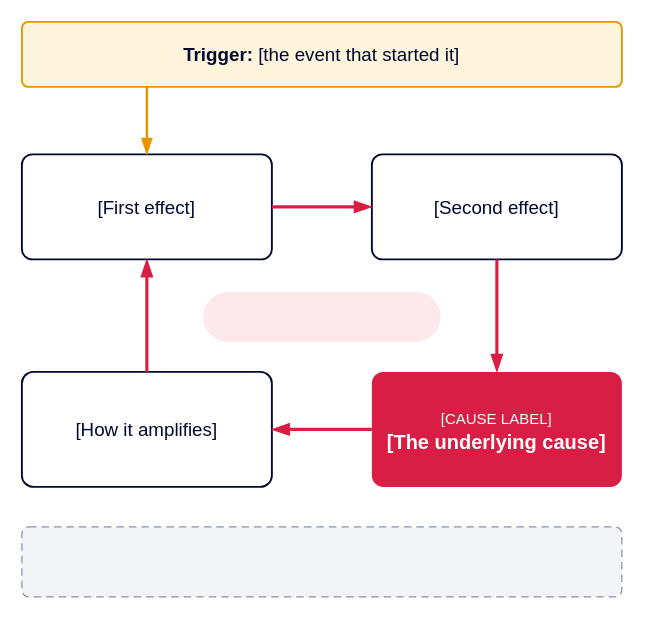
Some shapes in this 645 by 620 pixel diagram are drawn without their labels. Each missing label, with the centre of its shape:
"[Loop name]" belongs at (x=321, y=316).
"Blind spot: [what could not be seen, and why]" belongs at (x=321, y=561).
